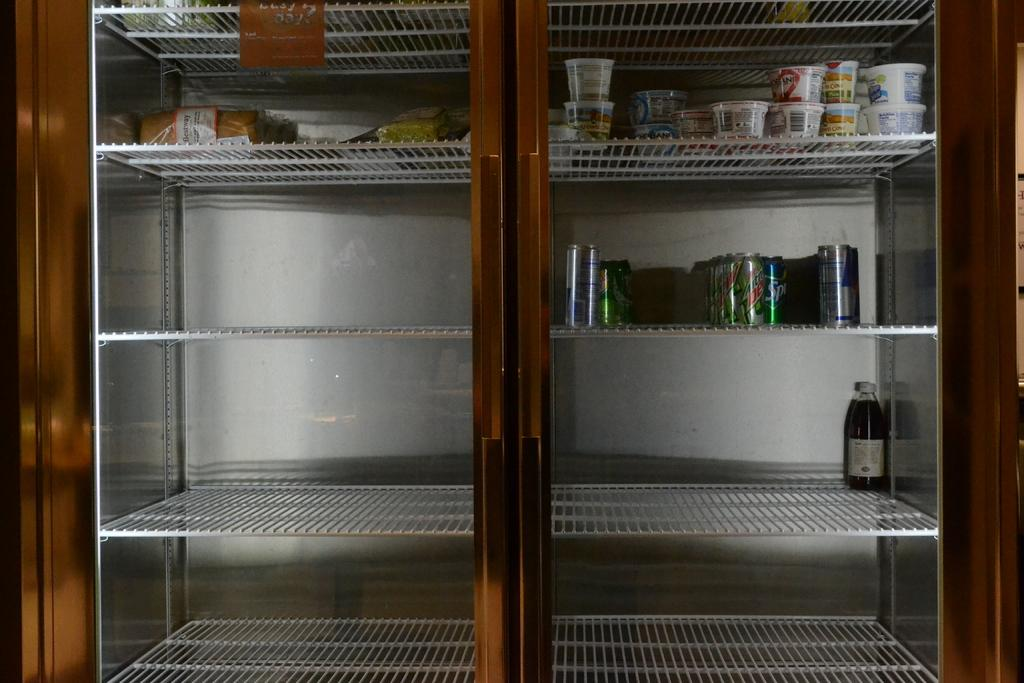handle: (475, 155, 504, 683), (521, 154, 545, 672)
